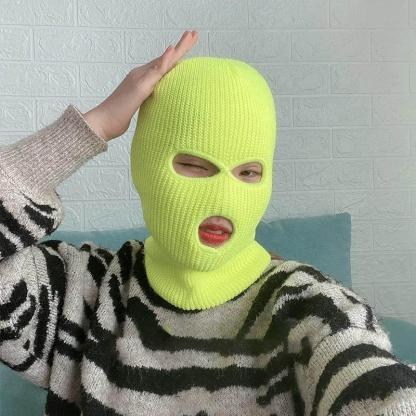criminal: (0, 29, 416, 416)
